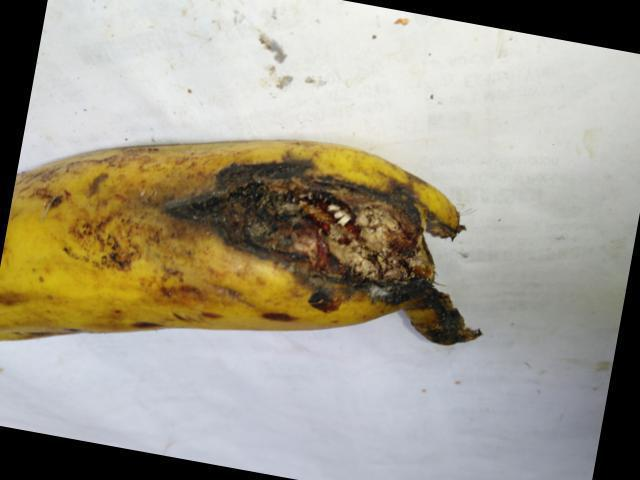rotten: (173, 134, 482, 367)
